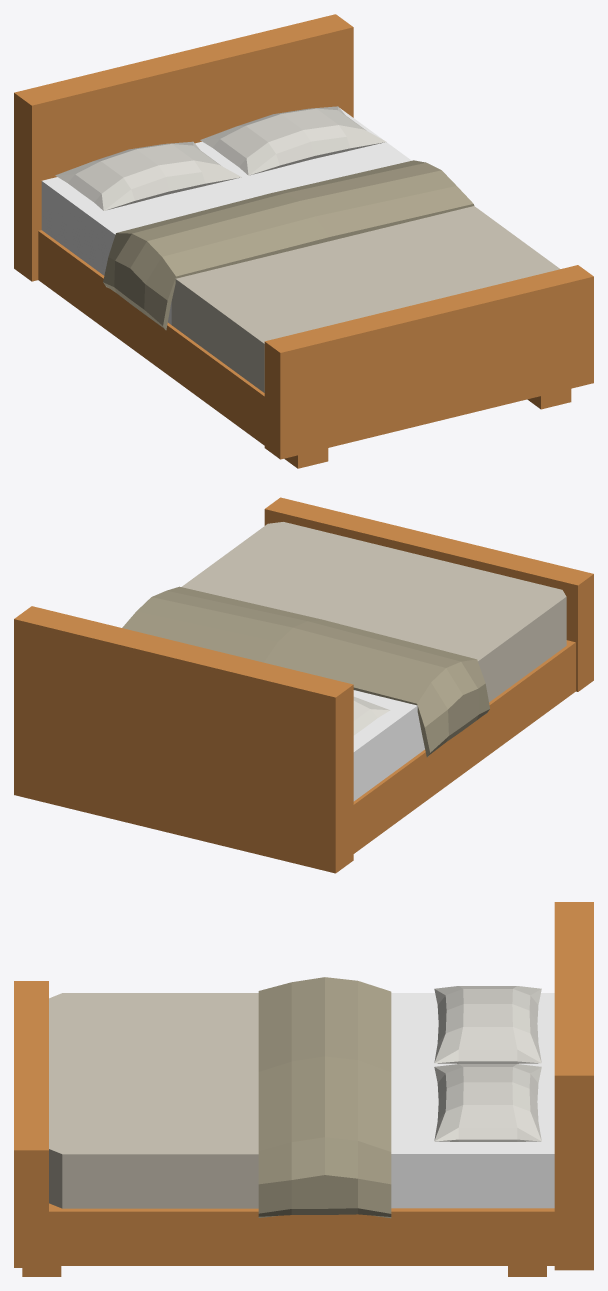
Rendered from Bed_1.gltf.
3 views of the same model, one above another, from view 1: azimuth 30°, elevation 25°; view 2: azimuth 150°, elevation 25°; view 3: azimuth 270°, elevation 25° (orthographic). The views are drawn at different scales.
Visible parts, largest first — view 1: SM_Bed_2A_318_StaticMeshComponent0; view 2: SM_Bed_2A_318_StaticMeshComponent0; view 3: SM_Bed_2A_318_StaticMeshComponent0.
Part boxes in pixels (<box>): SM_Bed_2A_318_StaticMeshComponent0: <box>14,14,593,468</box>; SM_Bed_2A_318_StaticMeshComponent0: <box>14,497,593,873</box>; SM_Bed_2A_318_StaticMeshComponent0: <box>14,902,593,1276</box>.
Size of the model in its own units: 2.11 by 1.18 by 2.9.
Materials: 1 (1 with a texture image).
